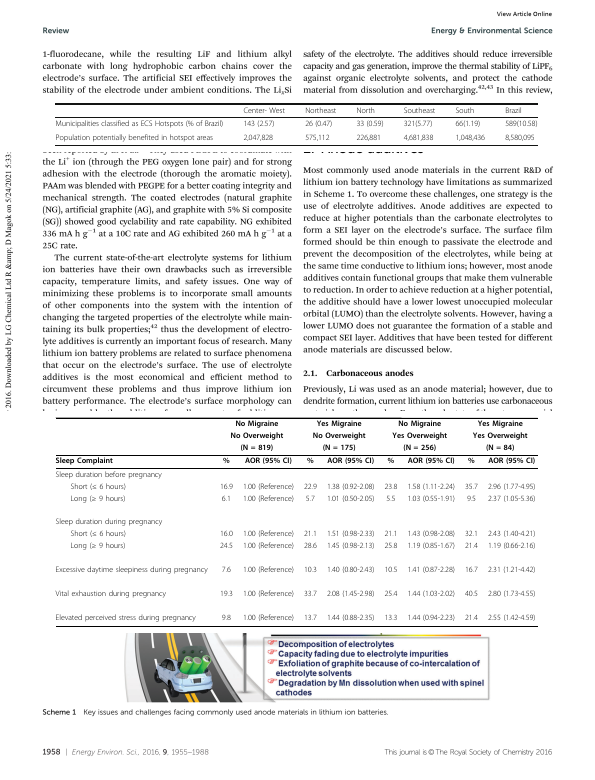borderless: (55, 416, 538, 626), (55, 102, 538, 145)
cell: (55, 119, 224, 129), (55, 133, 214, 143), (55, 566, 209, 575), (55, 614, 197, 623), (55, 470, 163, 480), (55, 518, 163, 528), (55, 590, 167, 599), (69, 482, 127, 492), (69, 530, 127, 540), (69, 494, 126, 504), (69, 542, 126, 552), (55, 457, 114, 466), (242, 482, 295, 492), (242, 494, 295, 504), (242, 530, 295, 540), (242, 542, 295, 552), (391, 432, 448, 441), (472, 432, 528, 441), (406, 482, 456, 492), (406, 494, 456, 504), (406, 530, 456, 540), (406, 542, 456, 552), (326, 482, 375, 492), (487, 482, 536, 492), (326, 494, 375, 504), (487, 494, 536, 504), (326, 530, 375, 540), (487, 530, 536, 540), (326, 542, 375, 552), (487, 542, 536, 552), (230, 432, 284, 441), (312, 432, 366, 441), (242, 566, 295, 575), (242, 590, 295, 599), (242, 614, 295, 623), (406, 566, 456, 575), (406, 590, 456, 599), (406, 614, 456, 623), (244, 457, 293, 466), (326, 457, 375, 466), (487, 457, 536, 466), (326, 566, 375, 575), (487, 566, 536, 575), (326, 590, 375, 599), (487, 590, 536, 599), (326, 614, 375, 623), (487, 614, 536, 623), (407, 457, 455, 466), (316, 420, 363, 429), (477, 420, 524, 429), (234, 420, 279, 429), (397, 420, 442, 429), (242, 106, 286, 115), (504, 119, 538, 129), (242, 119, 275, 129), (242, 133, 274, 143), (454, 133, 486, 143), (504, 133, 536, 143), (239, 444, 274, 453), (402, 444, 437, 453), (403, 133, 434, 143), (322, 444, 356, 453), (403, 119, 433, 129), (304, 106, 337, 115), (403, 106, 436, 115), (304, 119, 333, 129), (355, 119, 384, 129), (454, 119, 481, 129), (355, 133, 382, 143), (485, 444, 515, 453), (304, 133, 330, 143), (355, 106, 376, 115), (454, 106, 475, 115), (504, 106, 523, 115), (219, 482, 234, 492), (303, 482, 318, 492), (383, 482, 398, 492), (464, 482, 479, 492), (219, 530, 234, 540), (303, 530, 318, 540), (383, 530, 398, 540), (464, 530, 479, 540), (219, 542, 234, 552), (303, 542, 318, 552), (383, 542, 398, 552), (464, 542, 479, 552), (303, 566, 318, 575), (383, 566, 398, 575), (464, 566, 479, 575), (219, 590, 234, 599), (303, 590, 318, 599), (383, 590, 398, 599), (464, 590, 479, 599), (303, 614, 318, 623), (383, 614, 398, 623), (464, 614, 479, 623), (221, 494, 232, 504), (305, 494, 316, 504), (385, 494, 396, 504), (466, 494, 477, 504), (221, 566, 232, 575), (221, 614, 232, 623), (222, 457, 231, 466), (306, 457, 315, 466), (386, 457, 395, 466), (467, 457, 476, 466)
